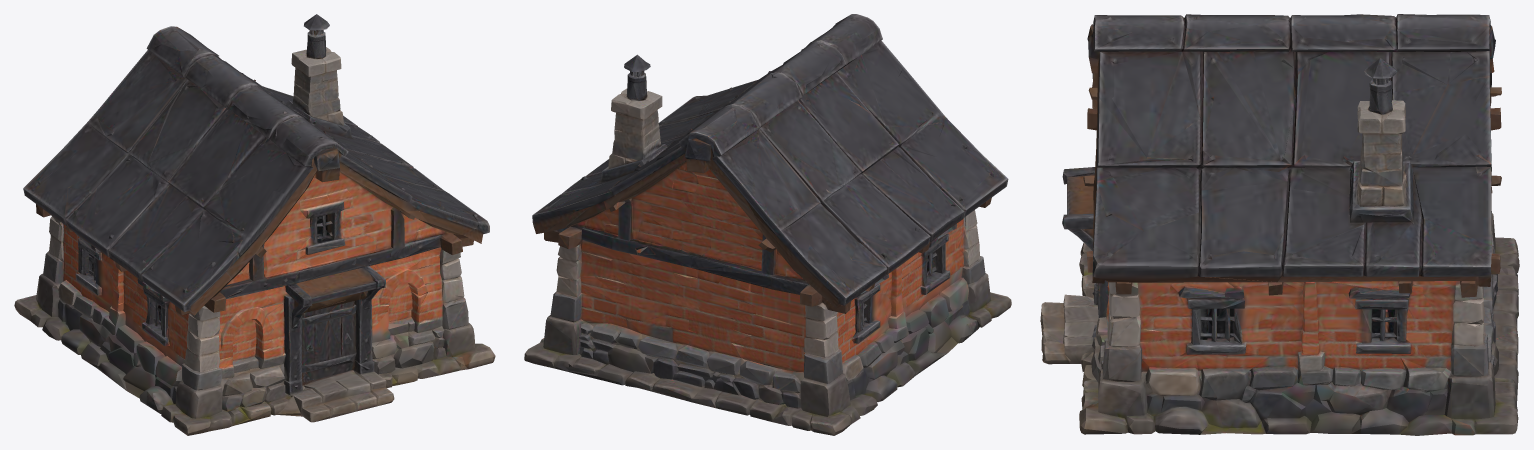
File: house.glb
The picture shows the model from 3 angles, left to right: view 1: azimuth 30°, elevation 25°; view 2: azimuth 150°, elevation 25°; view 3: azimuth 270°, elevation 25°; orthographic projection. The views are drawn at different scales.
Size of the model in its own units: 1.77 by 1.49 by 1.9.
1 material, 1 textured.
